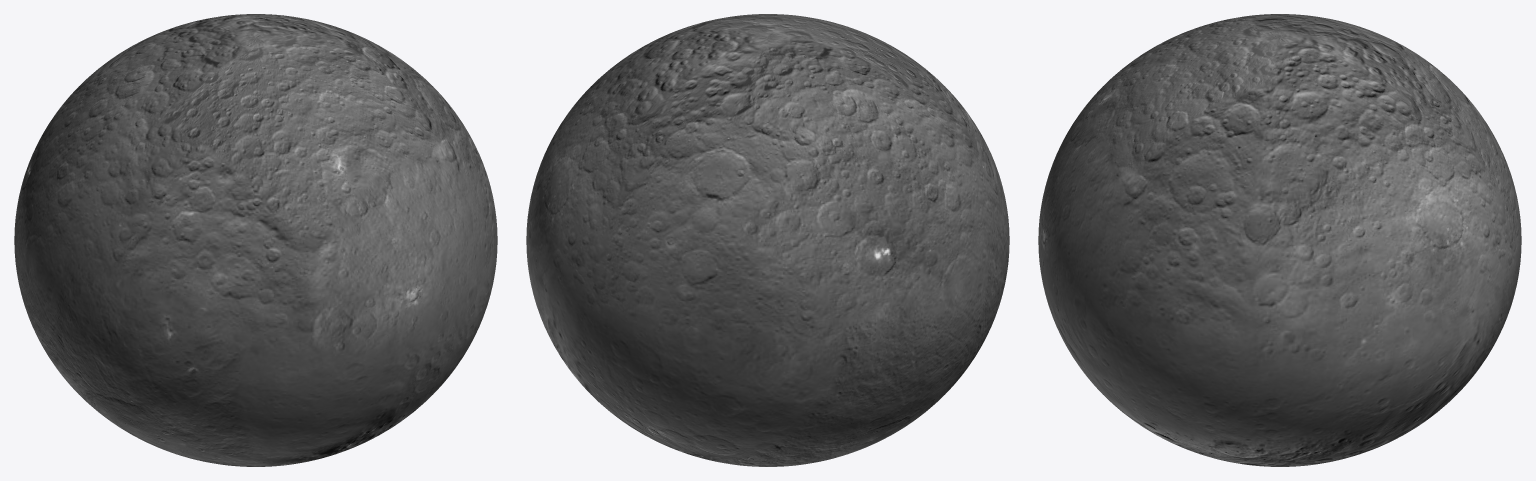
The model's file is nasa-ceres.glb.
3 renders of one model, left to right at view 1: azimuth 30°, elevation 25°; view 2: azimuth 150°, elevation 25°; view 3: azimuth 270°, elevation 25°, orthographic.
Visible parts, largest first — view 1: cylindrically_mapped_sphere; view 2: cylindrically_mapped_sphere; view 3: cylindrically_mapped_sphere.
Part boxes in pixels (x1,y1,x2,y2): cylindrically_mapped_sphere: (14,14,497,466); cylindrically_mapped_sphere: (526,14,1009,466); cylindrically_mapped_sphere: (1038,14,1521,466).
Size of the model in its own units: 946 by 873 by 946.
1 material, 1 textured.
